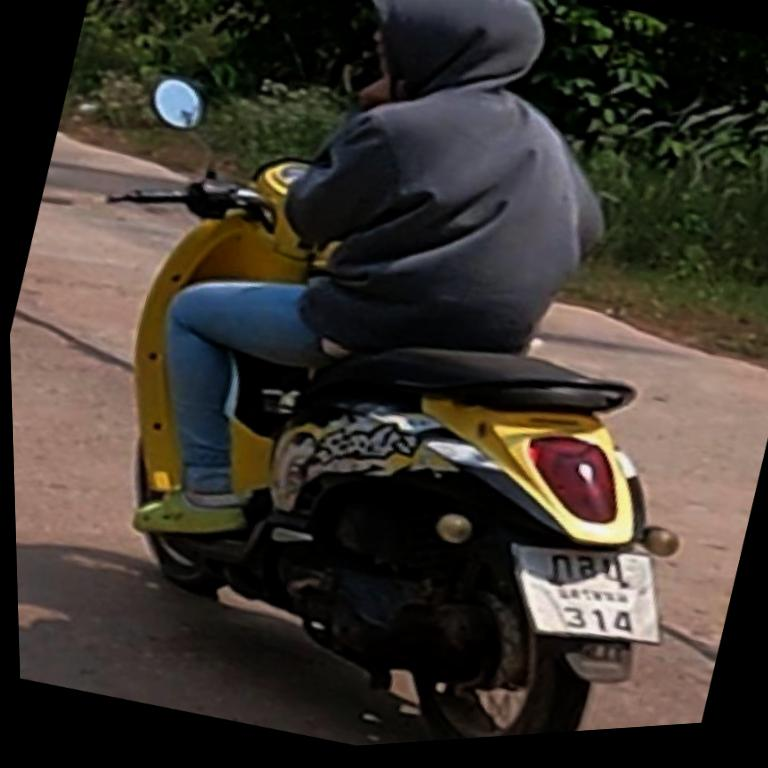license plate: (511, 545, 659, 643)
